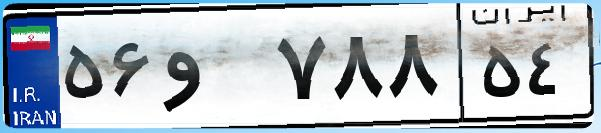4: (525, 38, 570, 115)
5: (57, 26, 110, 100), (475, 38, 525, 113)
6: (110, 28, 158, 98)
7: (270, 28, 330, 110)
8: (385, 28, 445, 110), (330, 28, 385, 110)
و: (158, 20, 270, 120)
